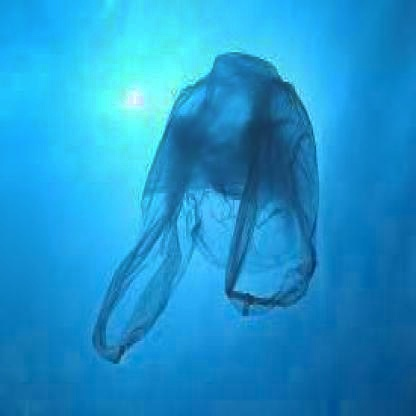pbag: (92, 52, 319, 362)
